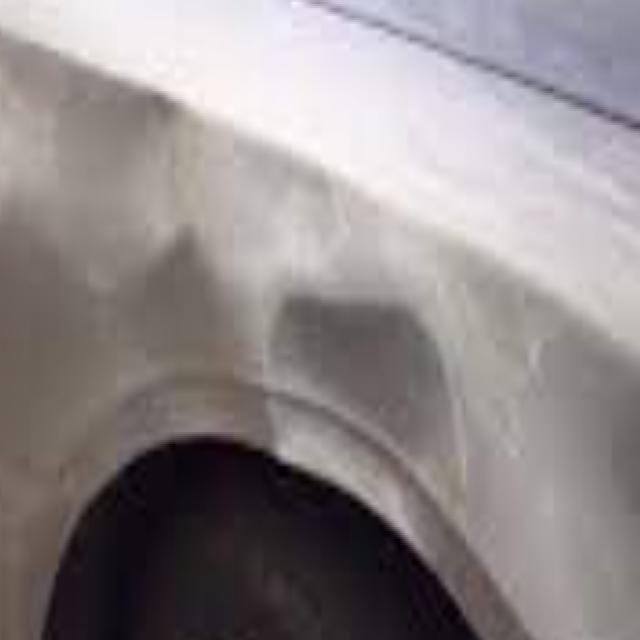dents: (269, 245, 464, 530), (123, 248, 264, 480), (47, 59, 192, 282)
